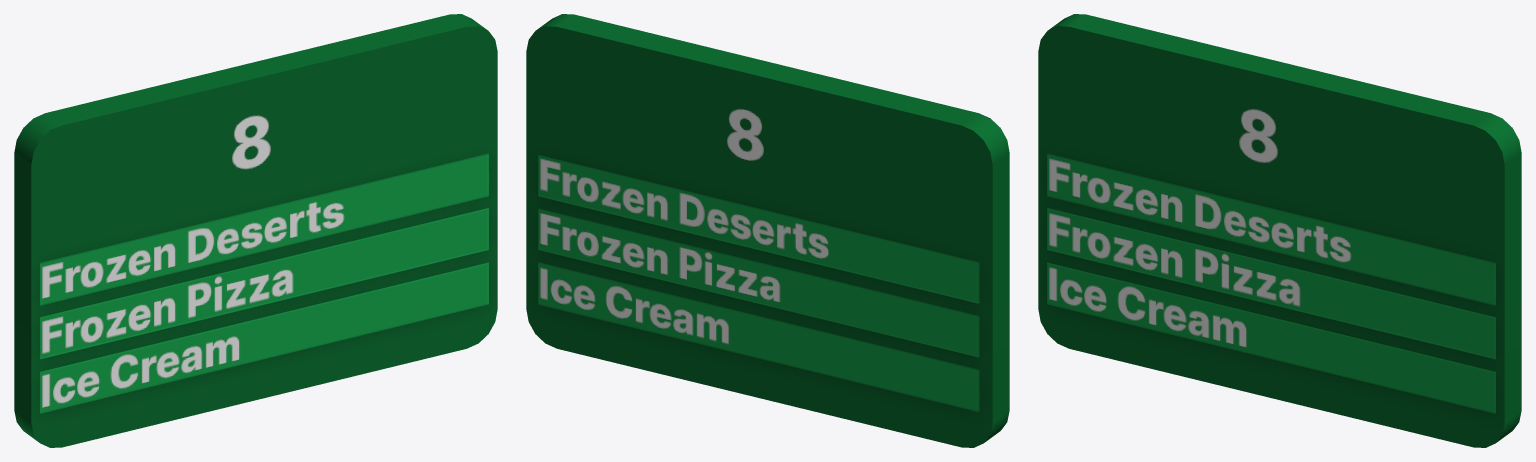
The model's file is aisle8.fbx.
3 views of the same model, side by side, from view 1: azimuth 30°, elevation 25°; view 2: azimuth 150°, elevation 25°; view 3: azimuth 330°, elevation 25° (orthographic).
Visible parts, largest first — view 1: pCube1; view 2: pCube1; view 3: pCube1.
Boxes of the visible parts, x1,y1,x2,y2 form: pCube1: [14, 14, 497, 447]; pCube1: [526, 14, 1009, 447]; pCube1: [1038, 14, 1521, 447].
Bounding box in the file's own units: 15.9 × 10.49 × 1.
